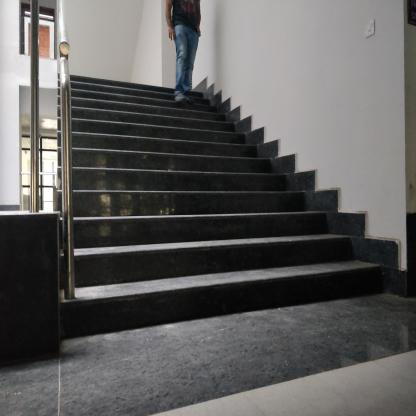stairs: (76, 185, 298, 330)
